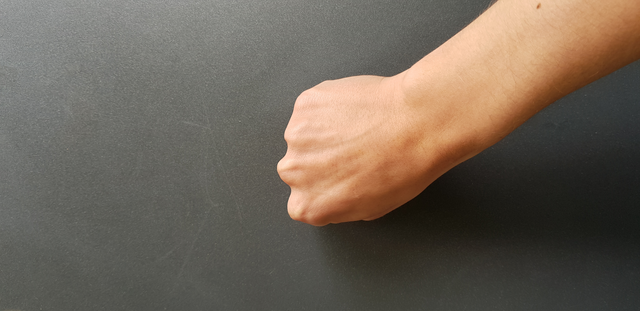Rock: (236, 60, 459, 249)
